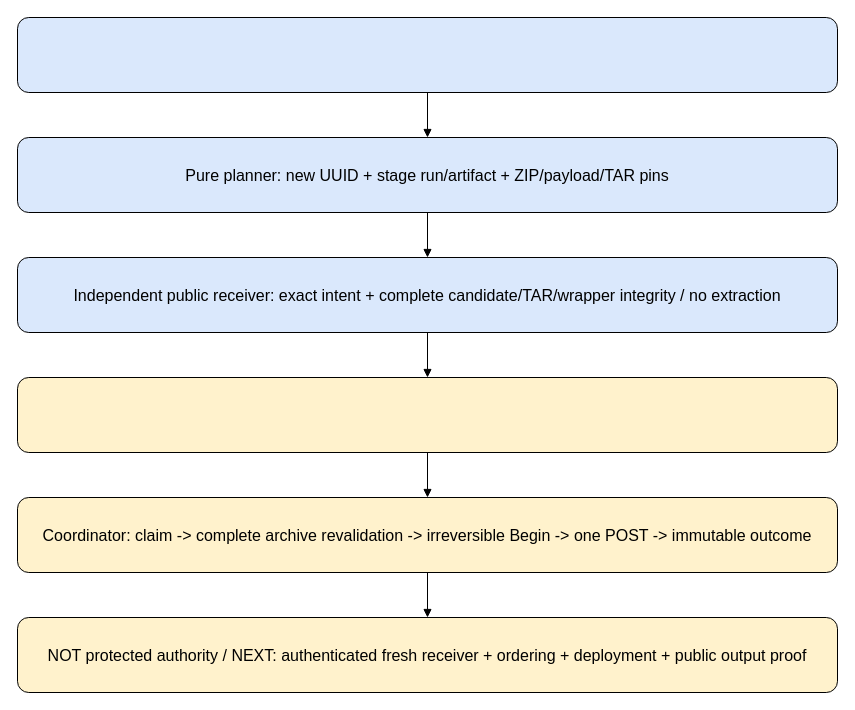
Image size: 855x710. Some labels were removed from this diagram. Each missing label, with the centre of its shape:
Exact source + staging preparation + retained uploaded-byte proof: the point at 427,54
INTEGRITY ONLY: unsigned data grants no deployment or completion authority: the point at 427,414
